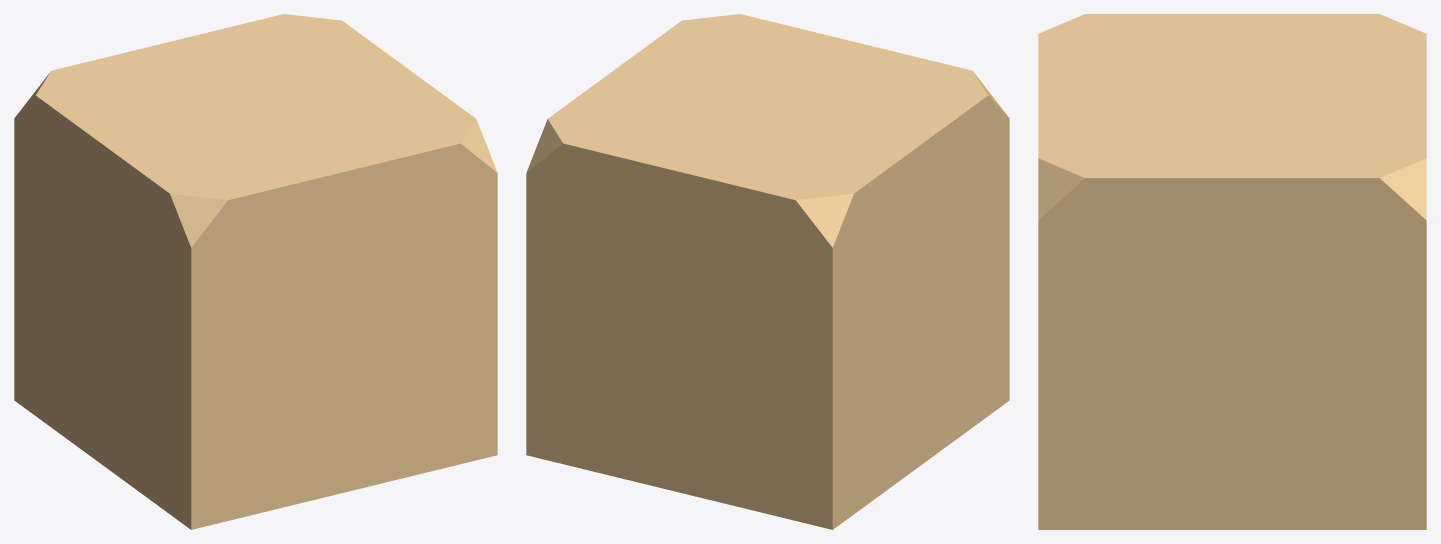
File: Tile_Sand.fbx
3 renders of one model, left to right at view 1: azimuth 30°, elevation 25°; view 2: azimuth 150°, elevation 25°; view 3: azimuth 270°, elevation 25°, orthographic. The views are drawn at different scales.
Parts seen in each view (by area): view 1: TIle_Sand; view 2: TIle_Sand; view 3: TIle_Sand.
Part boxes in pixels (x1,y1,x2,y2): TIle_Sand: [14, 14, 497, 529]; TIle_Sand: [526, 14, 1009, 529]; TIle_Sand: [1038, 14, 1426, 529].
Bounding box in the file's own units: 5 × 5 × 5.
